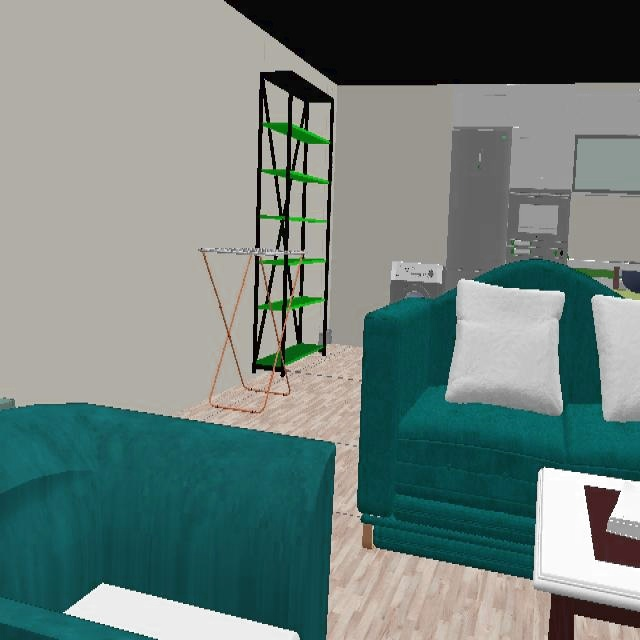book: (606, 480, 640, 539)
cabinet: (454, 86, 640, 191)
countertop: (568, 261, 640, 279)
fridge: (445, 128, 511, 290)
microwave: (507, 193, 569, 262)
pillow: (446, 280, 565, 414), (591, 295, 640, 422)
shelf: (251, 72, 334, 372)
sofa: (358, 260, 640, 578)
table: (534, 468, 640, 639)
